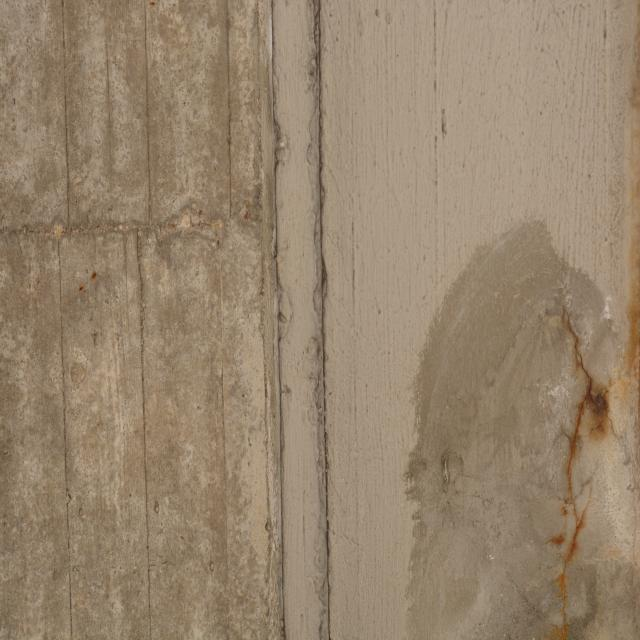corrosion: (526, 103, 640, 640)
